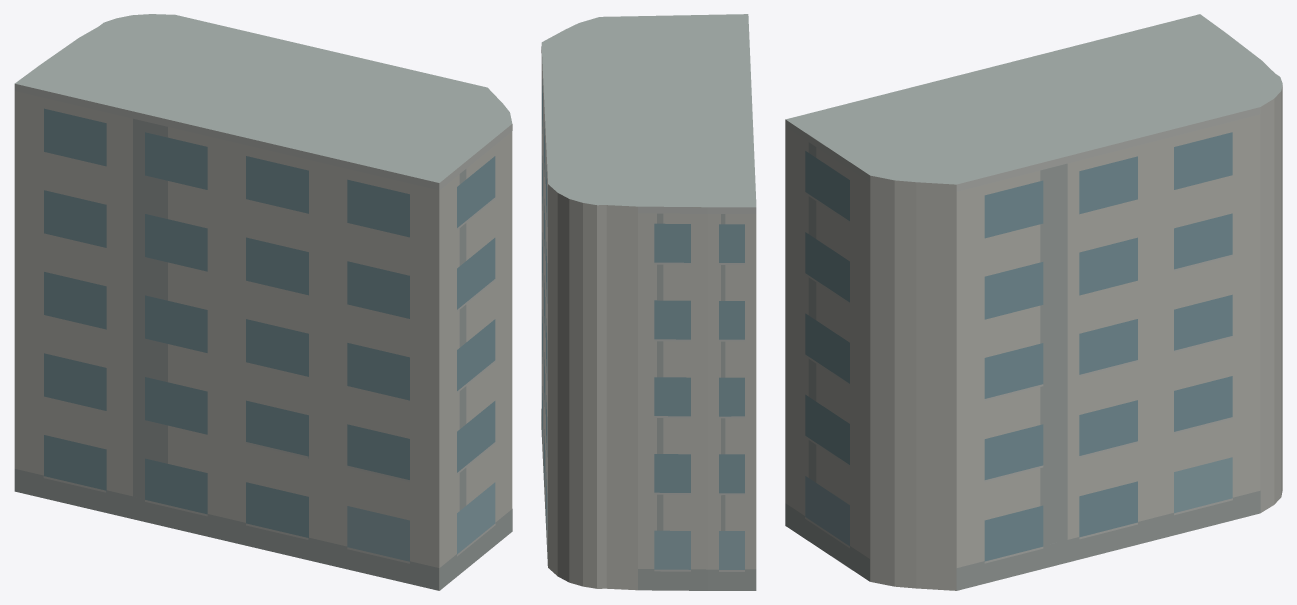
File: survey-upis-32727885.glb
The picture shows the model from 3 angles, left to right: view 1: azimuth 30°, elevation 25°; view 2: azimuth 150°, elevation 25°; view 3: azimuth 270°, elevation 25°; orthographic projection. The views are drawn at different scales.
Parts seen in each view (by area): view 1: survey-upis-32727885.tmp; view 2: survey-upis-32727885.tmp; view 3: survey-upis-32727885.tmp.
Part boxes in pixels (x1,y1,x2,y2): survey-upis-32727885.tmp: [14, 14, 512, 590]; survey-upis-32727885.tmp: [541, 14, 756, 590]; survey-upis-32727885.tmp: [785, 14, 1282, 590].
Bounding box in the file's own units: 12.25 × 13.6 × 15.09.
